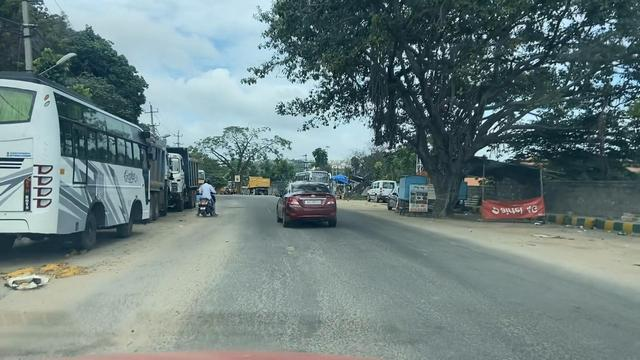HMV: (0, 74, 169, 261), (364, 176, 397, 208), (241, 175, 272, 200)
LMV: (270, 176, 351, 243), (189, 174, 219, 229)
